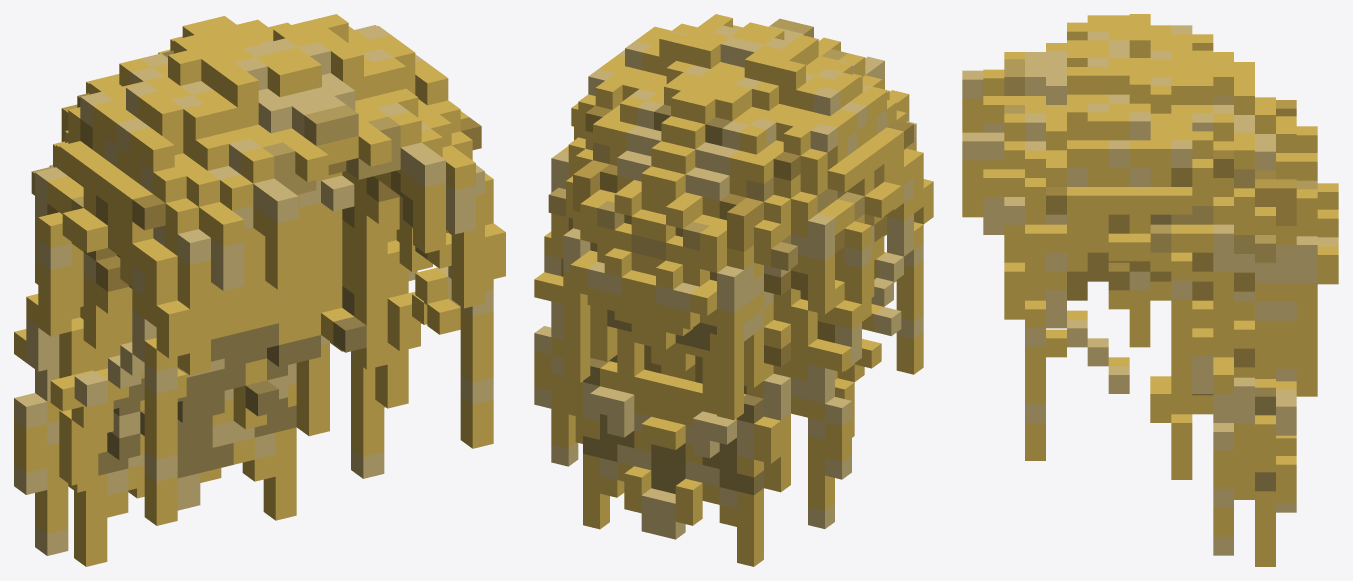
File: senshi_male_hair.glb
3 renders of one model, left to right at view 1: azimuth 30°, elevation 25°; view 2: azimuth 150°, elevation 25°; view 3: azimuth 270°, elevation 25°, orthographic. The views are drawn at different scales.
Parts seen in each view (by area): view 1: HELMET; view 2: HELMET; view 3: HELMET.
Part boxes in pixels (x1,y1,x2,y2): HELMET: (14, 14, 505, 566); HELMET: (534, 14, 933, 566); HELMET: (962, 14, 1338, 566).
Bounding box in the file's own units: 0.7818 × 1.09 × 0.7818.
4 materials, 4 textured.
